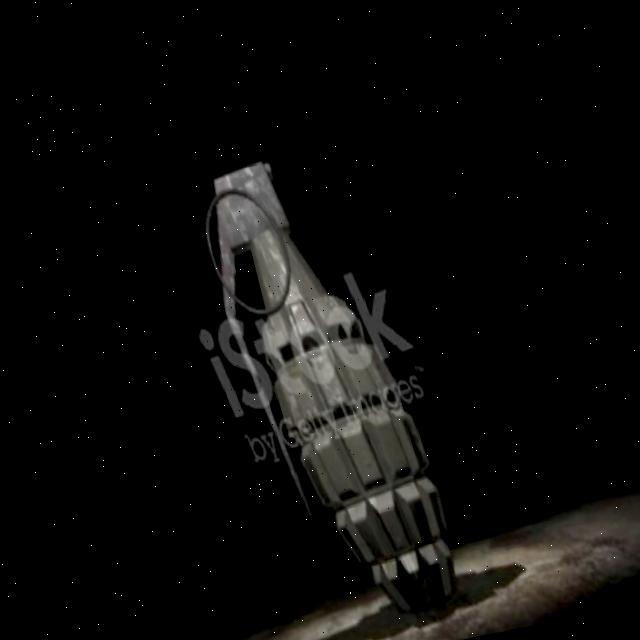grenade: (150, 101, 505, 640)
